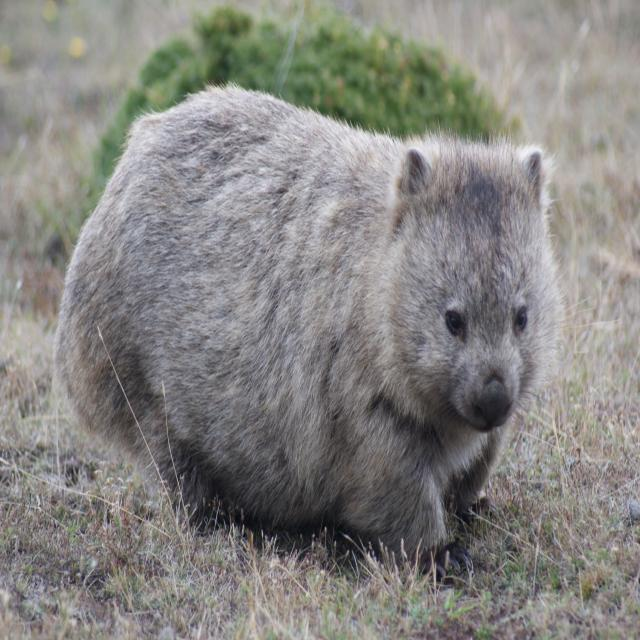Wombat: (51, 83, 566, 554)
